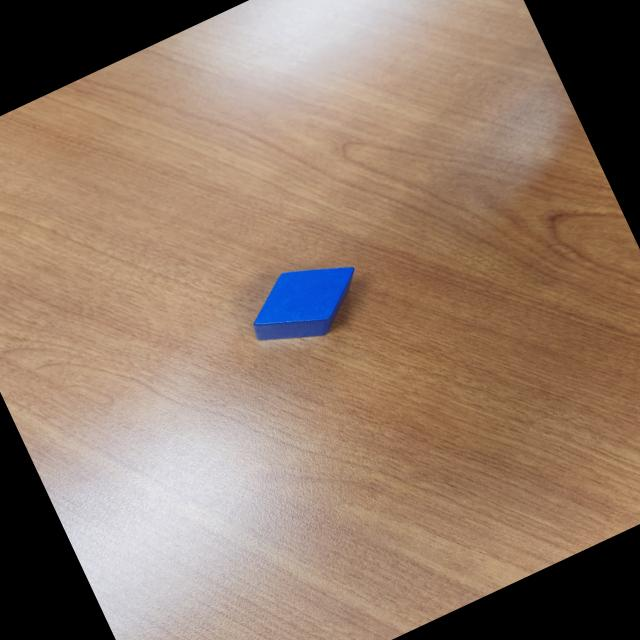blue: (236, 244, 376, 364)
